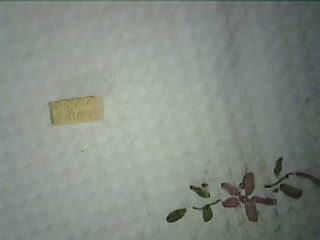lego: (46, 94, 103, 126)
